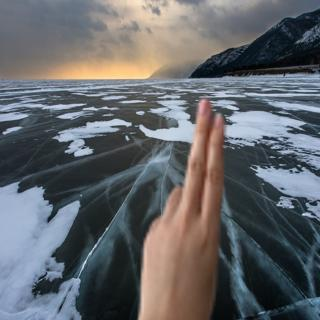DHAVE: (131, 94, 234, 320)
